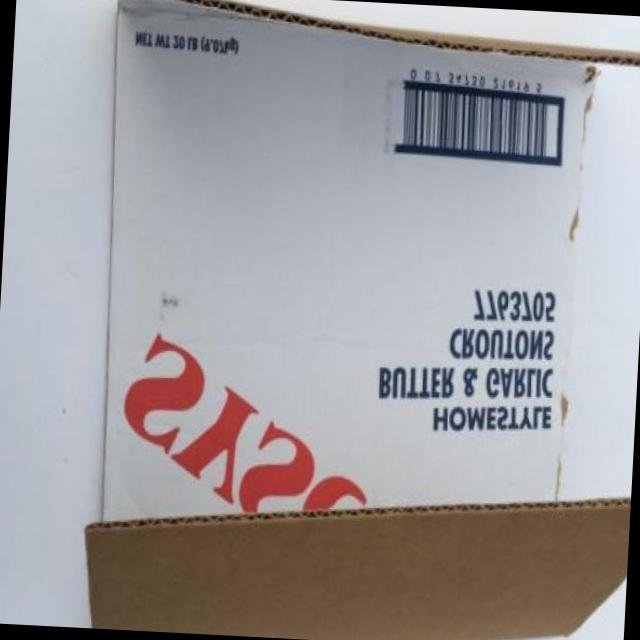cardboard paper: (88, 0, 640, 640)
